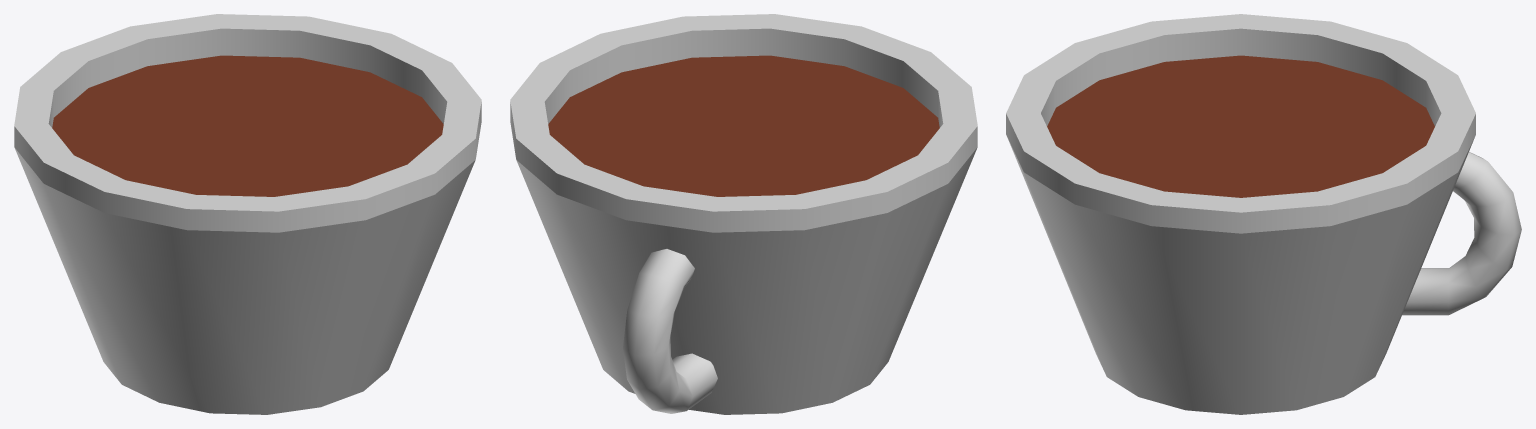
The model's file is coffee.fbx.
The picture shows the model from 3 angles, left to right: view 1: azimuth 30°, elevation 25°; view 2: azimuth 150°, elevation 25°; view 3: azimuth 270°, elevation 25°; orthographic projection.
Visible parts, largest first — view 1: Coffee; view 2: Coffee; view 3: Coffee.
Part boxes in pixels (left/top/right/bottom): Coffee: left=14, top=14, right=481, bottom=414; Coffee: left=510, top=14, right=977, bottom=414; Coffee: left=1006, top=14, right=1521, bottom=414.
Bounding box in the file's own units: 210 × 119 × 231.
